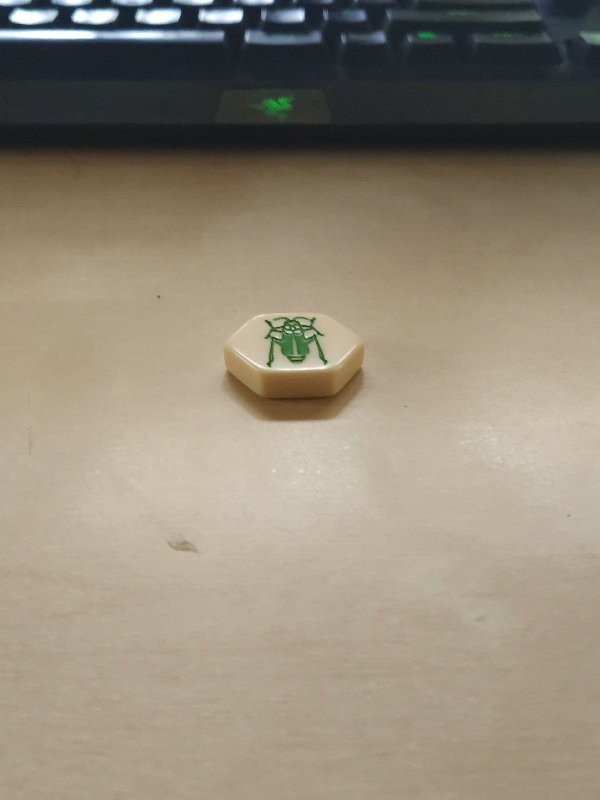white_grasshopper: (223, 305, 365, 404)
